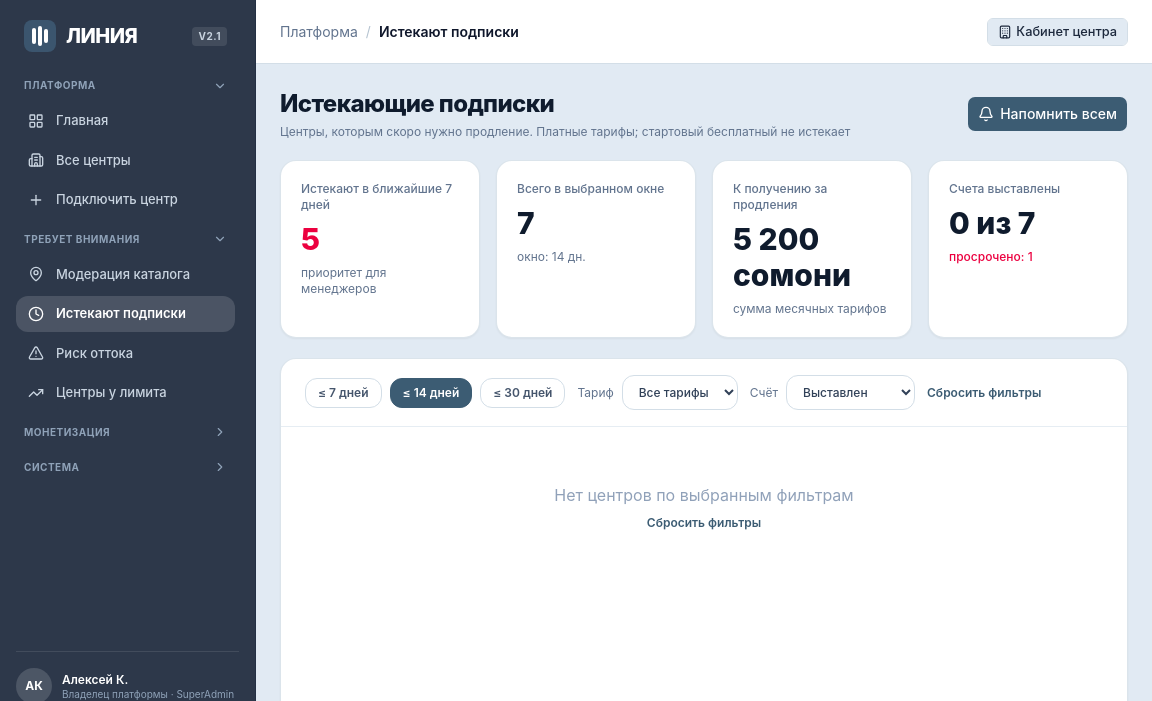
Test: истекающие подписки (PLT-DSH-030) › фильтр «Счёт: Выставлен» без счетов — пусто с кнопкой сброса
Expected: the text "Нет центров по выбранным фильтрам" is shown, [554,485,854,505]
Click the button "Сбросить фильтры" below "Нет центров по выбранным фильтрам": (704, 523) [647,515,761,531]
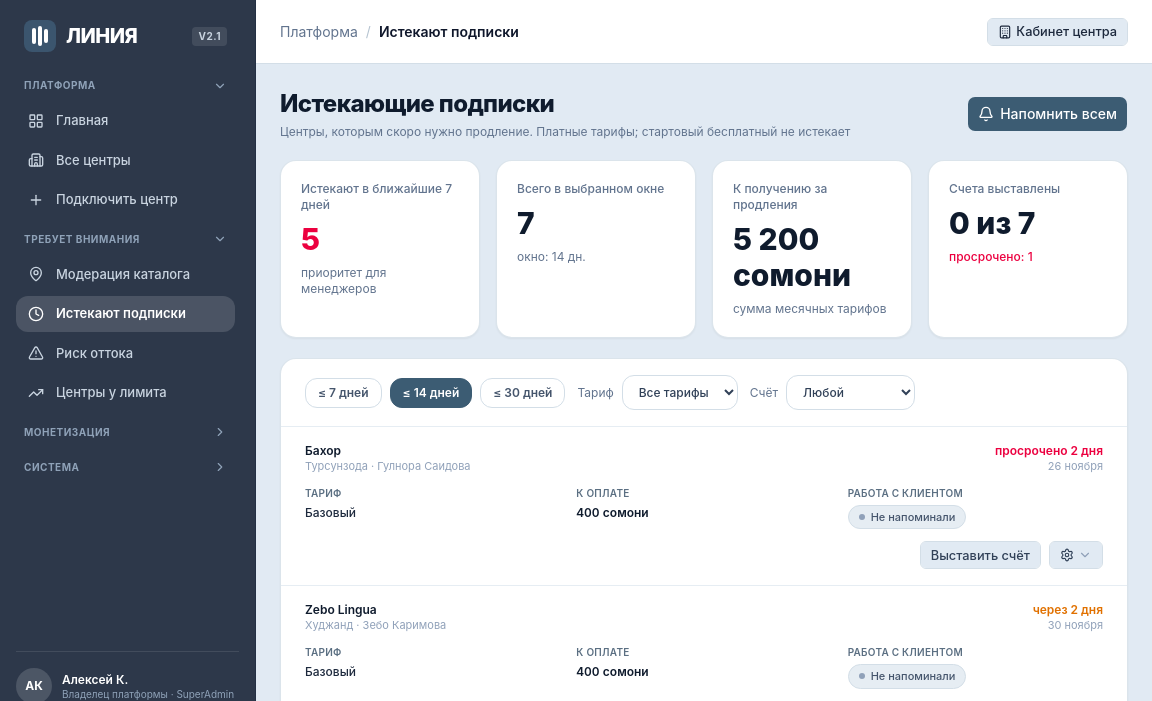
Now the text "Бахор" is shown, box [305,443,341,458]
